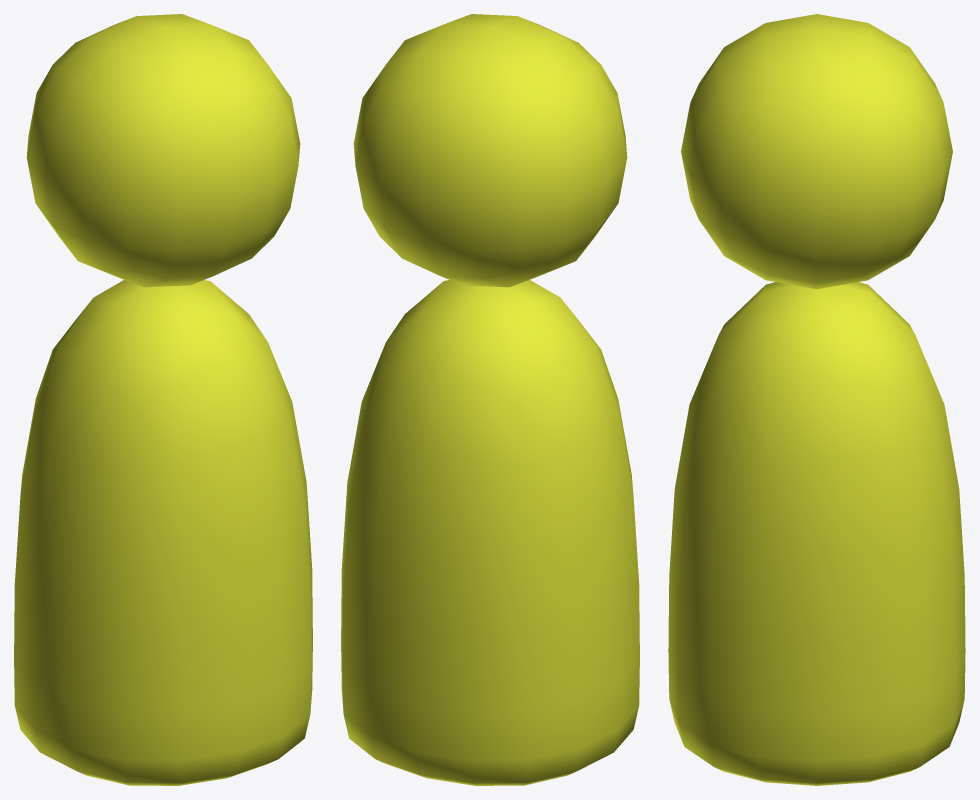
Rendered from Dude.fbx.
The picture shows the model from 3 angles, left to right: view 1: azimuth 30°, elevation 25°; view 2: azimuth 150°, elevation 25°; view 3: azimuth 270°, elevation 25°; orthographic projection.
Visible parts, largest first — view 1: Cube.003; view 2: Cube.003; view 3: Cube.003.
Part boxes in pixels (x1,y1,x2,y2): Cube.003: (14,14,312,785); Cube.003: (341,14,639,785); Cube.003: (668,14,965,785).
Bounding box in the file's own units: 183 × 480 × 183.
